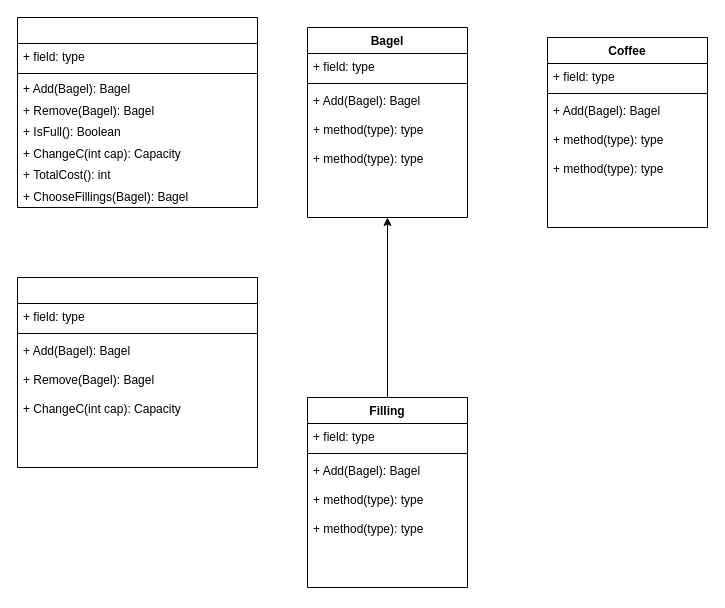
The diagram is 725 pixels wide and 608 high, and some of its shapes have lost their labels. The box of each missing label's shape, as (x1, y1, x2, y2) in pixels:
Basket: (16, 16, 258, 208)
Inventory: (16, 276, 258, 468)
